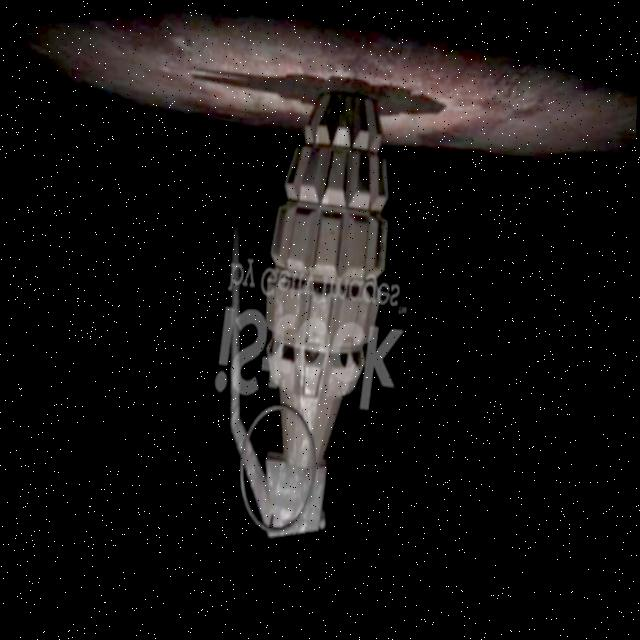grenade: (199, 65, 404, 553)
